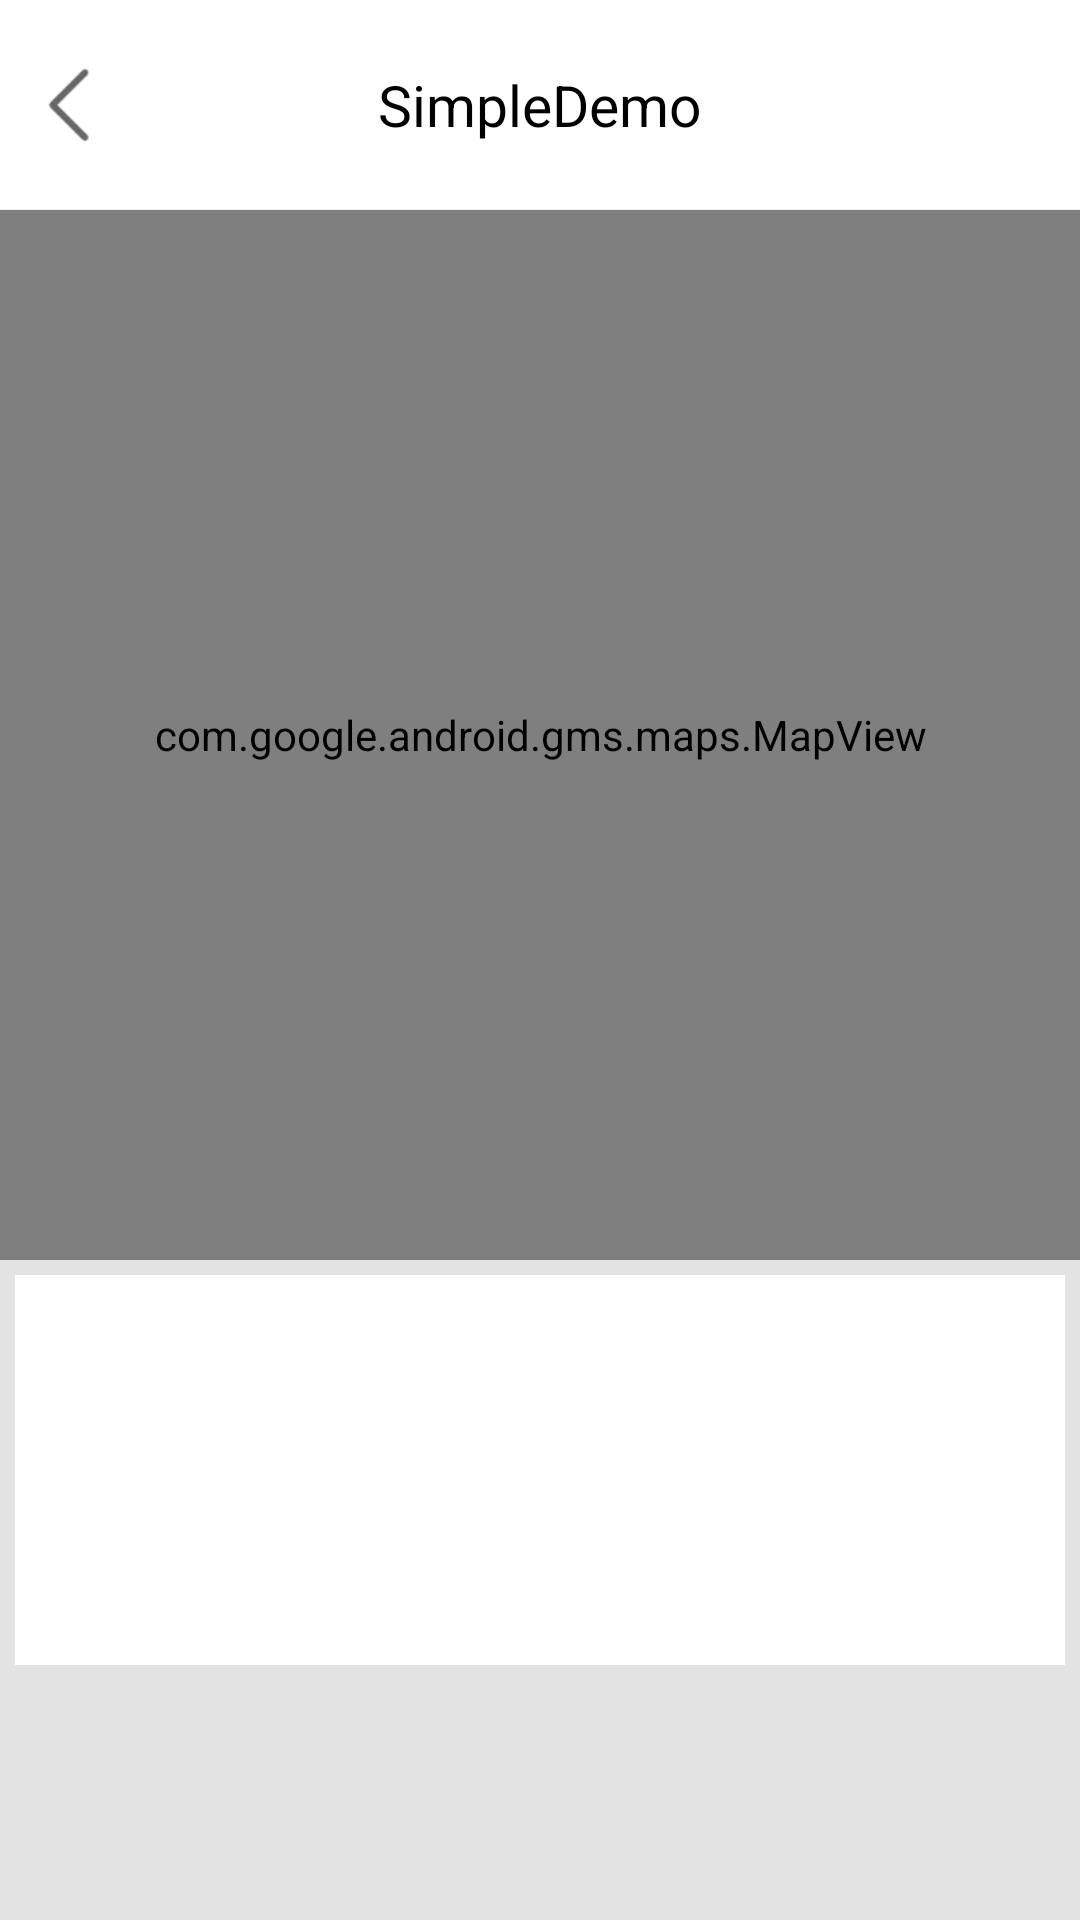

Where icons sit on this 1080 × 1920 app screen, as (x1, y1, x2, y2):
photo bar back: (49, 69, 89, 141)
